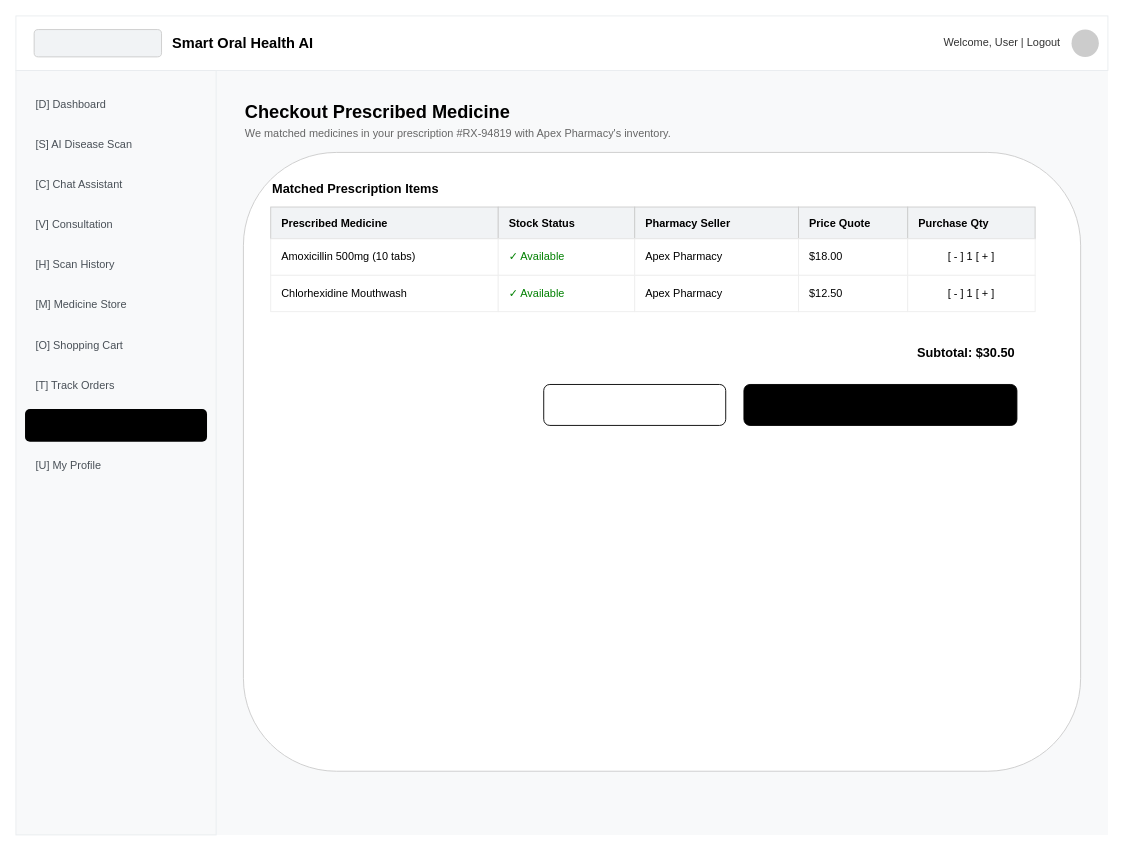
This 1124x851 diagram has some shape labels left out. Here are the shapes that lost their labels. From the top down, the centre of each, then its label:
At point (97, 43): "Tooth Mascot [Animated]".
At point (634, 404): "Go back to Prescriptions".
At point (880, 404): "Proceed to Payment Checkout".
At point (116, 425): "[P] Prescriptions".
